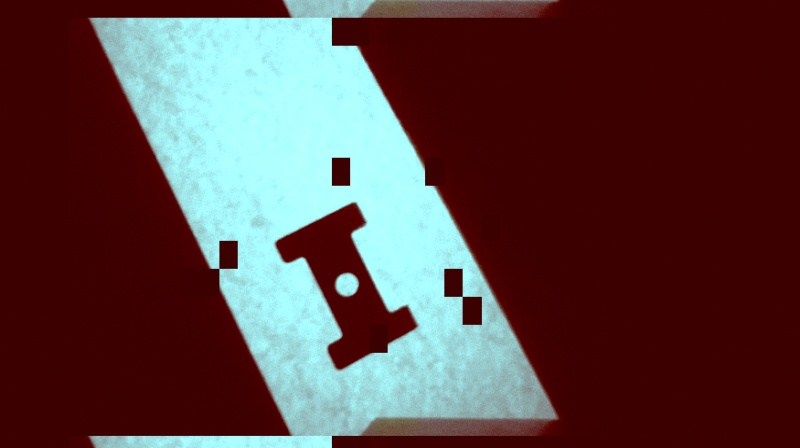O002: (271, 198, 421, 372)
